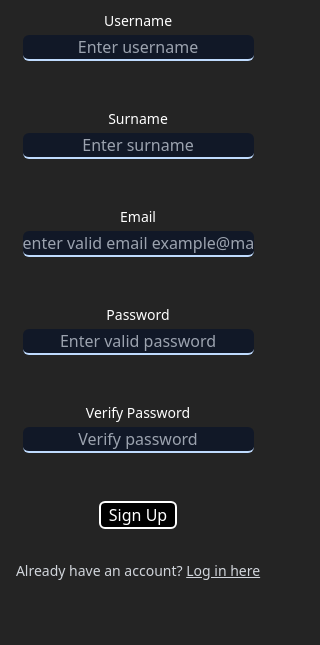
Test: Sign up form › checking for errors
The width and height of the screenshot is (320, 645).
What coordinates should you click on to do the following:
click the button "Sign Up"
I would click on:
 (138, 515)
Its box is [99,501,177,529].
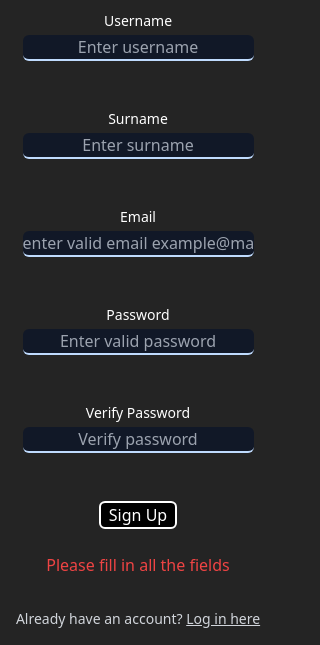
Result: the text "Please fill in all the fields" is shown at [46,553,230,577]
